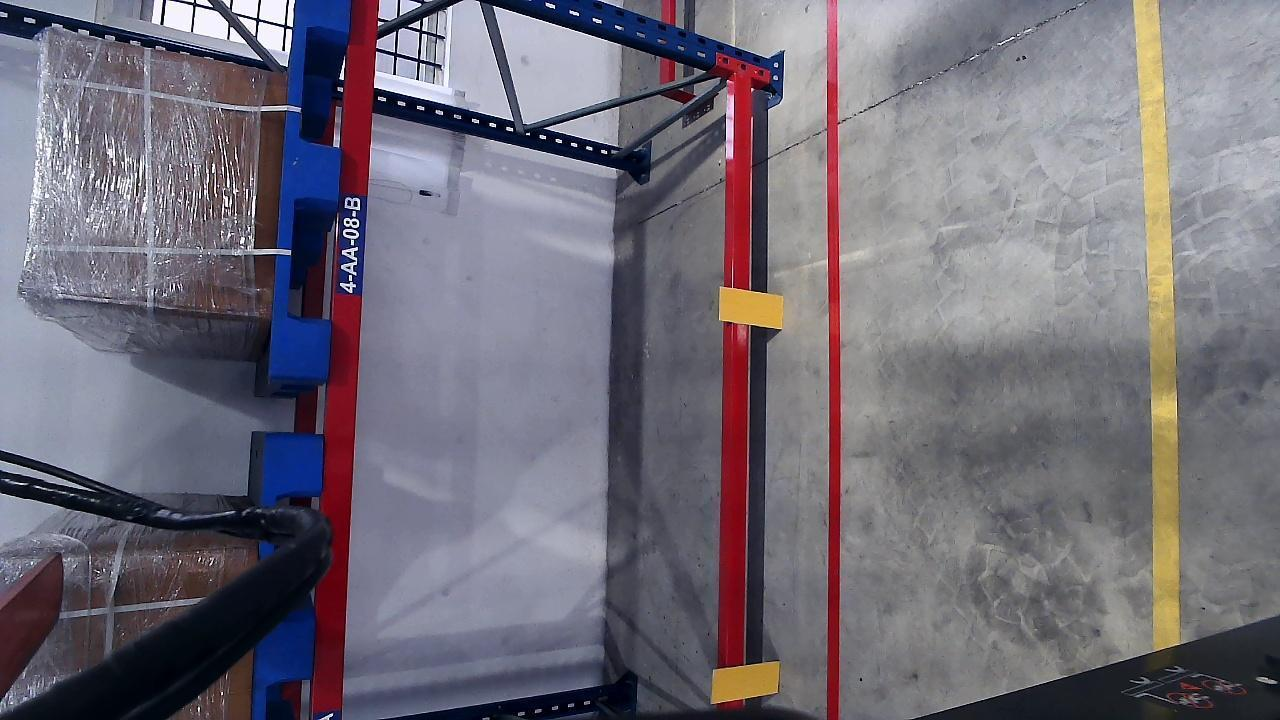red_line: (821, 0, 844, 720)
yellow_line: (1128, 0, 1182, 649)
